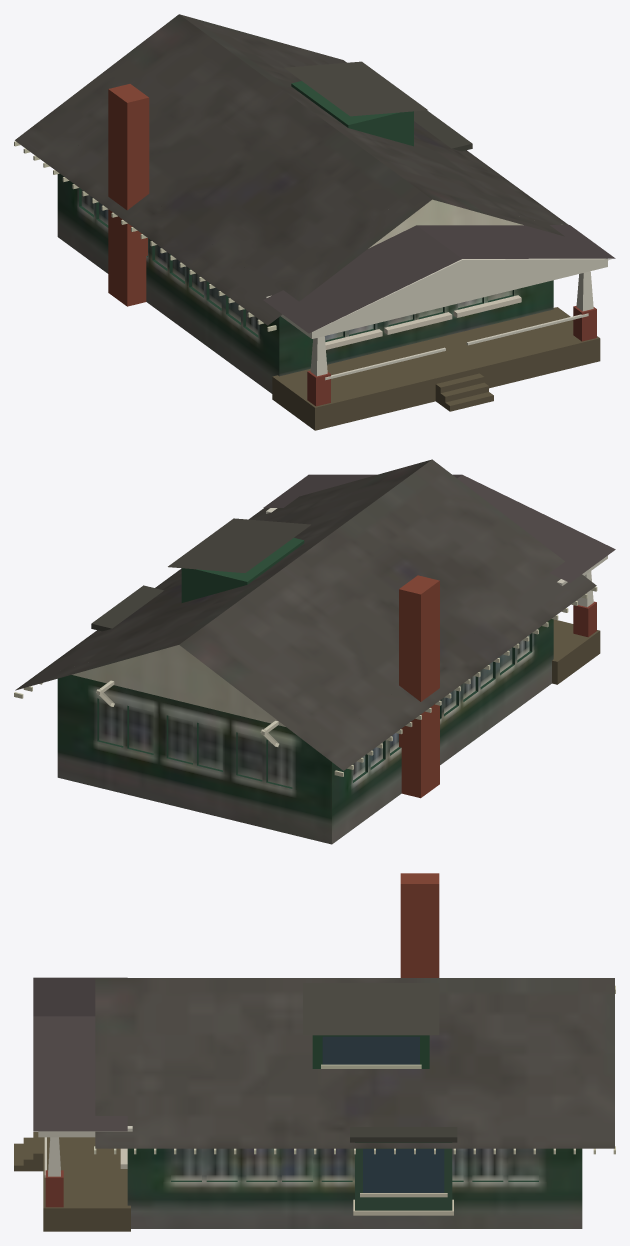
The model's file is seattle_house_a.glb.
3 views of the same model, one above another, from view 1: azimuth 30°, elevation 25°; view 2: azimuth 150°, elevation 25°; view 3: azimuth 270°, elevation 25° (orthographic). The views are drawn at different scales.
Visible parts, largest first — view 1: seattle_house_a; view 2: seattle_house_a; view 3: seattle_house_a.
Part boxes in pixels (x1=…): seattle_house_a: x1=14, y1=14, x2=615, y2=430; seattle_house_a: x1=14, y1=459, x2=615, y2=844; seattle_house_a: x1=14, y1=873, x2=615, y2=1231.
Size of the model in its own units: 12 by 7.1 by 18.53.
1 material, 1 textured.
